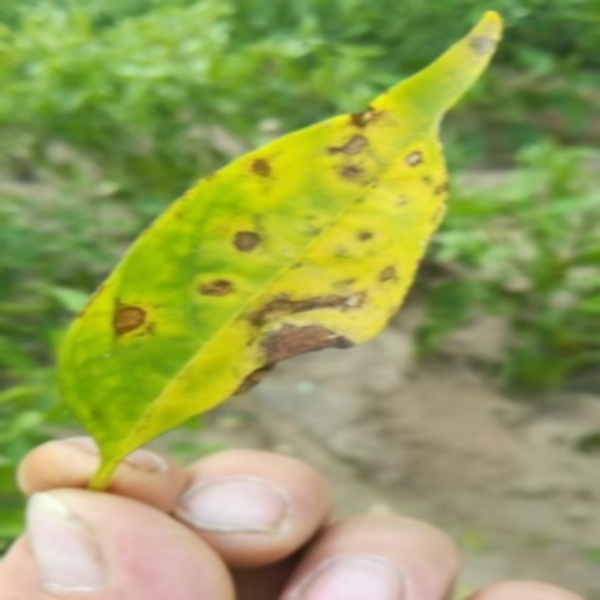Anthrax: (191, 104, 450, 391), (82, 287, 167, 353), (465, 19, 506, 67)
